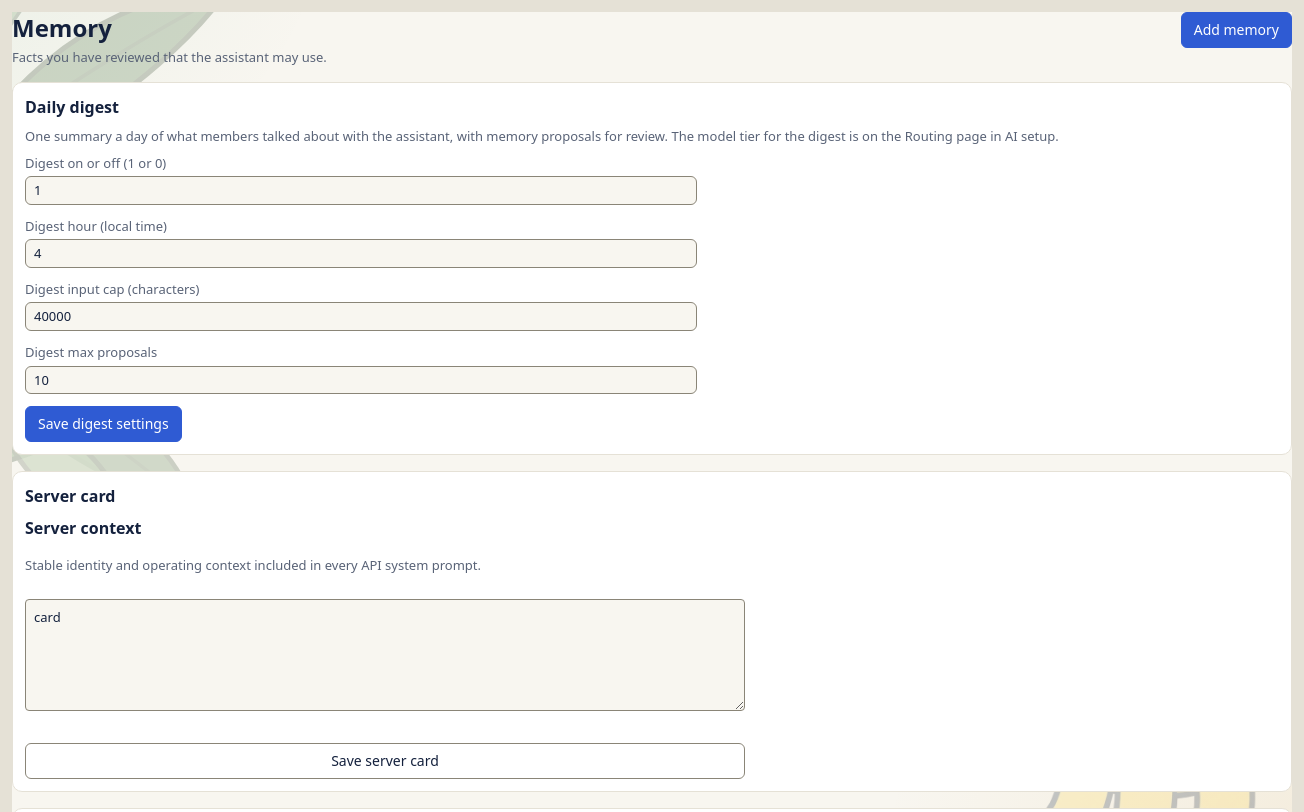
Test: stops on a failed write without a success toast and reloads partial changes
Replace the text in the field labelled "Digest on or off (1 or 0)" with "0" at (361, 190), box [25,176,697,205]
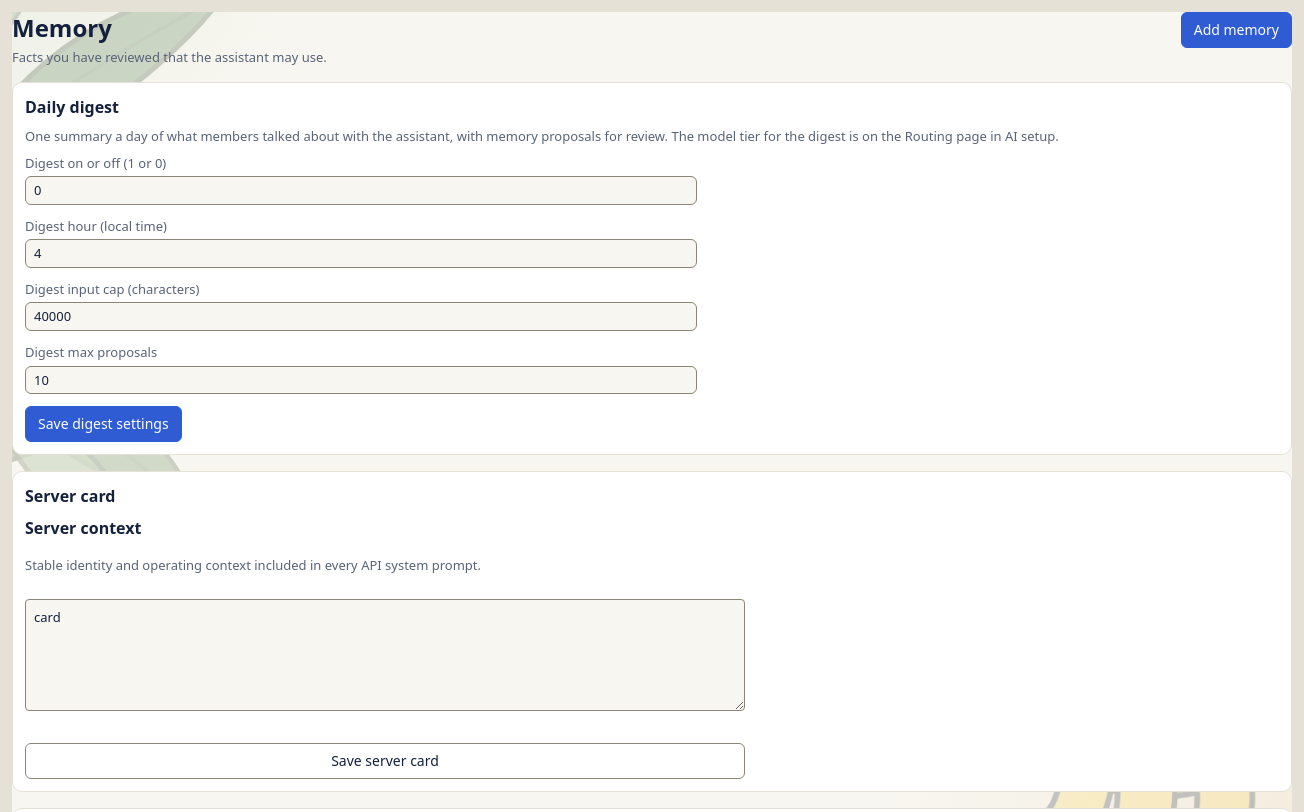
Replace the text in the field labelled "Digest hour (local time)" with "5" at (361, 254), box [25,239,697,268]
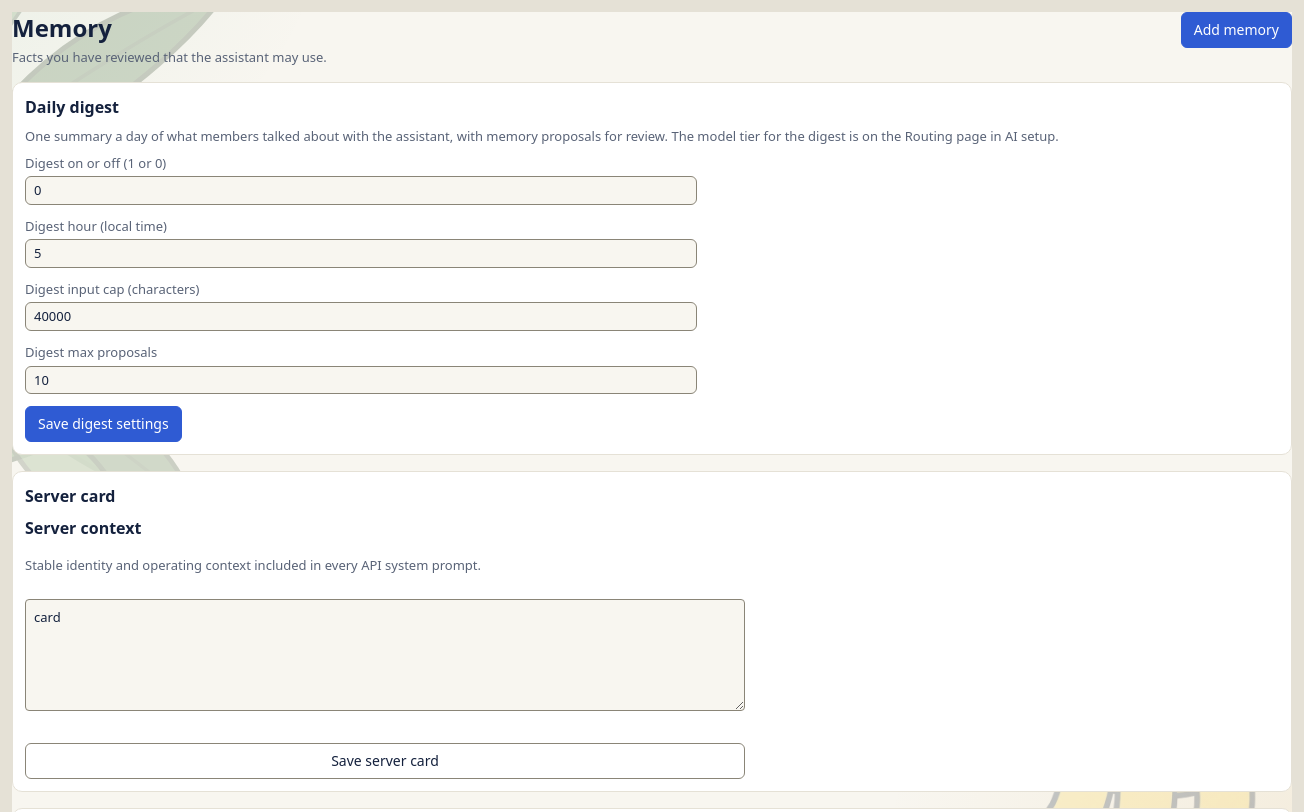
Replace the text in the field labelled "Digest max proposals" with "9" at (361, 380), box [25,366,697,394]
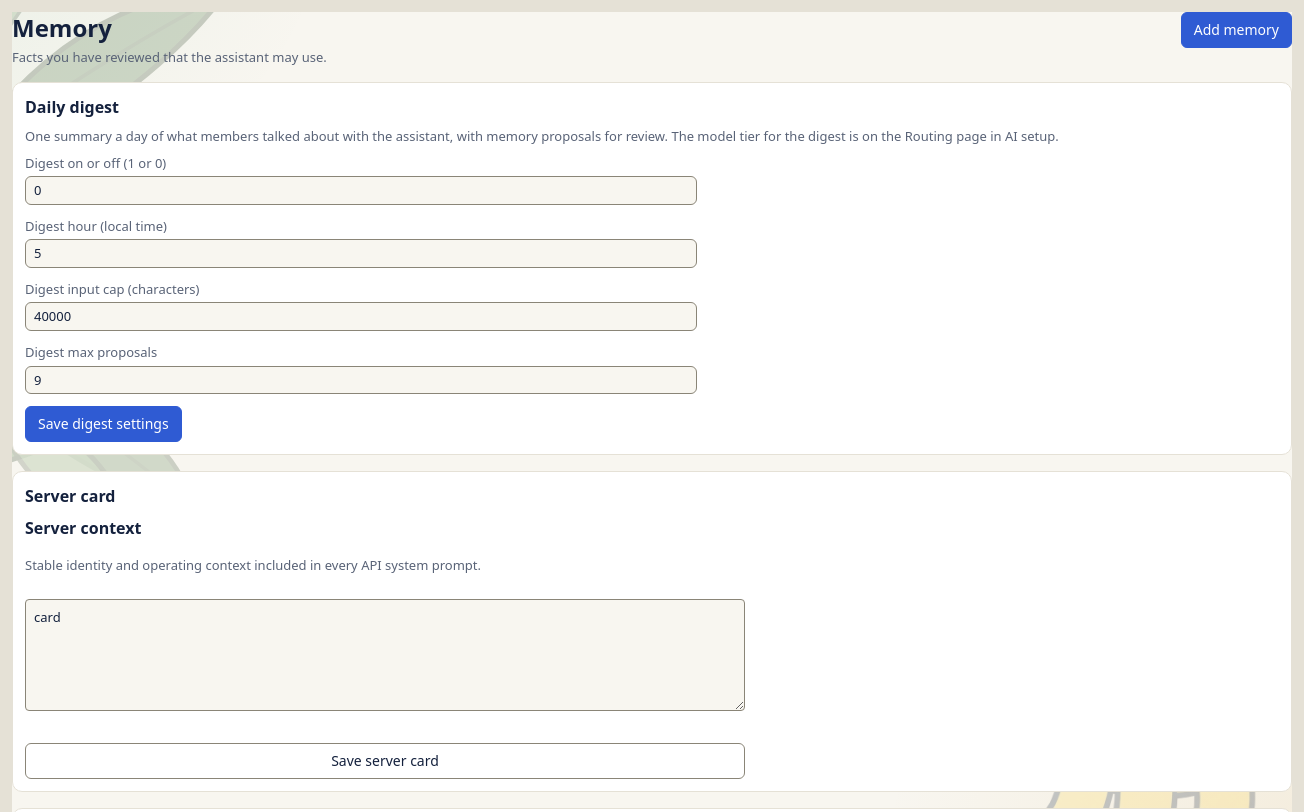
Click the button "Save digest settings" at (103, 424), box [25,406,182,442]
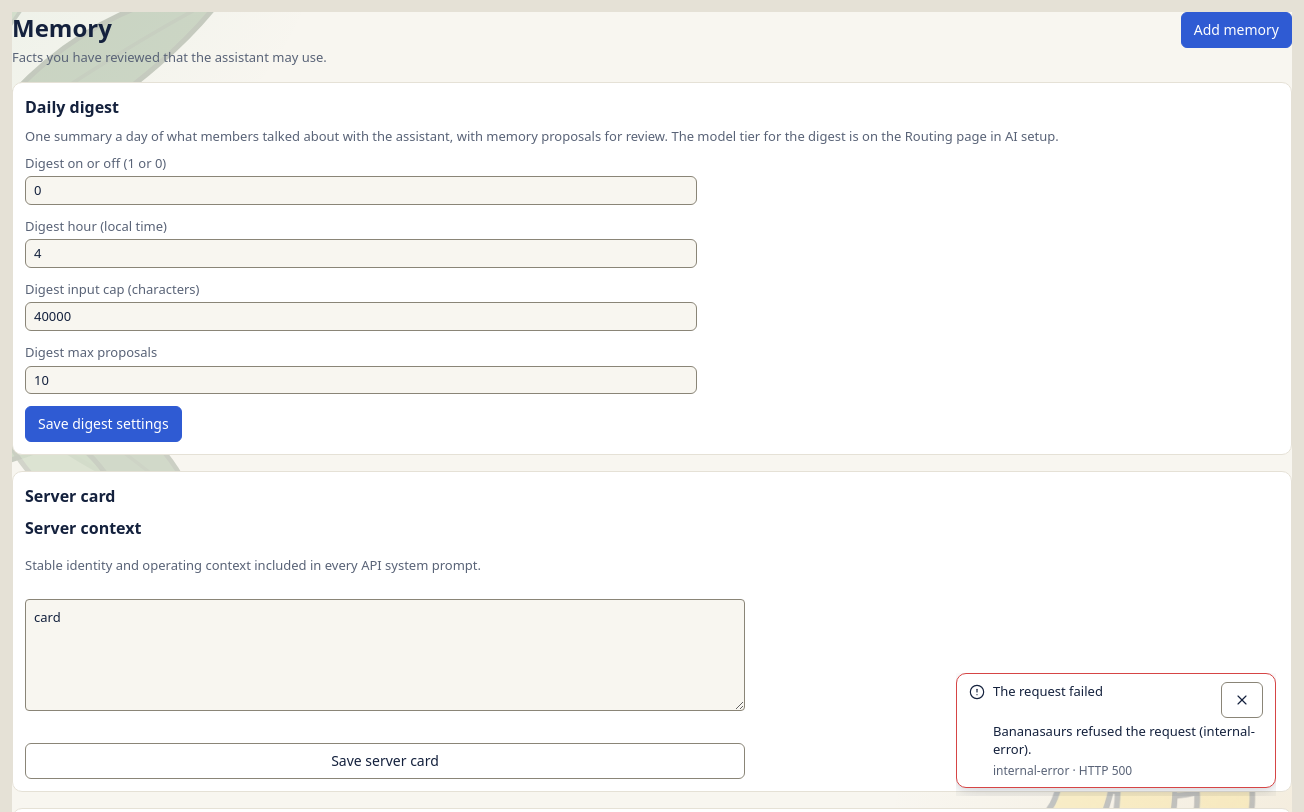
Expected: the field labelled "Digest on or off (1 or 0)" holds "0", [25,176,697,205]
Expected: the field labelled "Digest hour (local time)" holds "4", [25,239,697,268]
